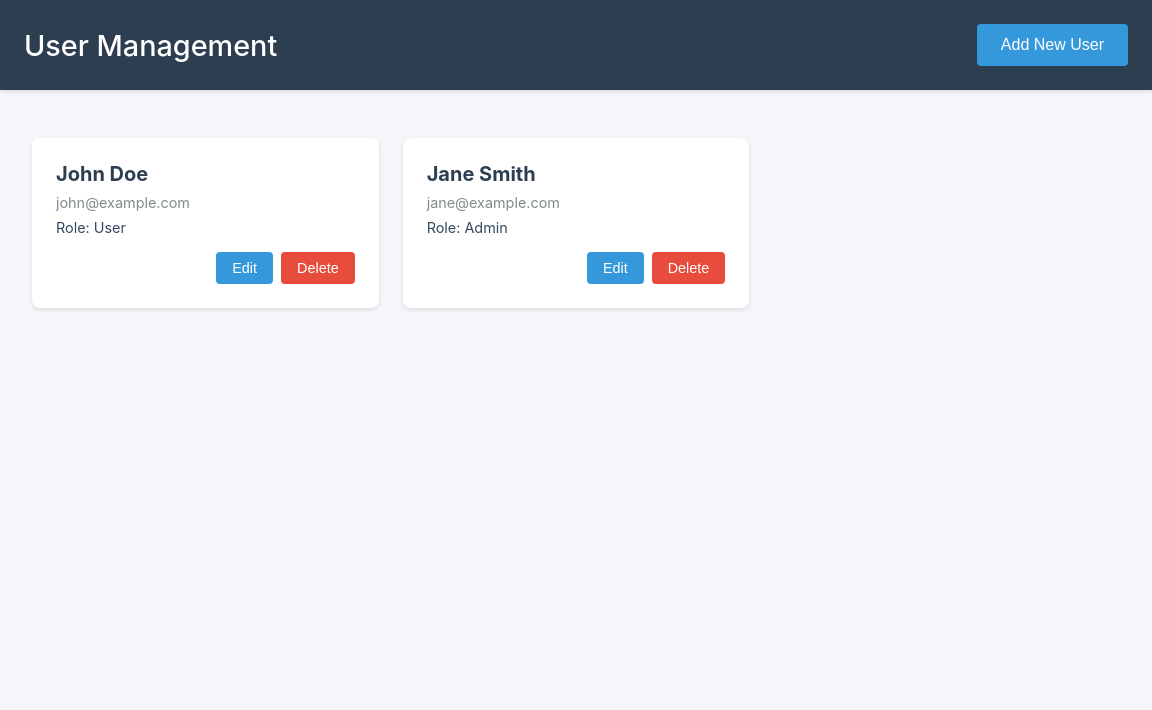
Test case: App › User Update › opens edit form with user data
Find and click edit button for first user
Click the button with test id "edit-button" below "john@example.com" at (245,268), box [216, 252, 273, 284]
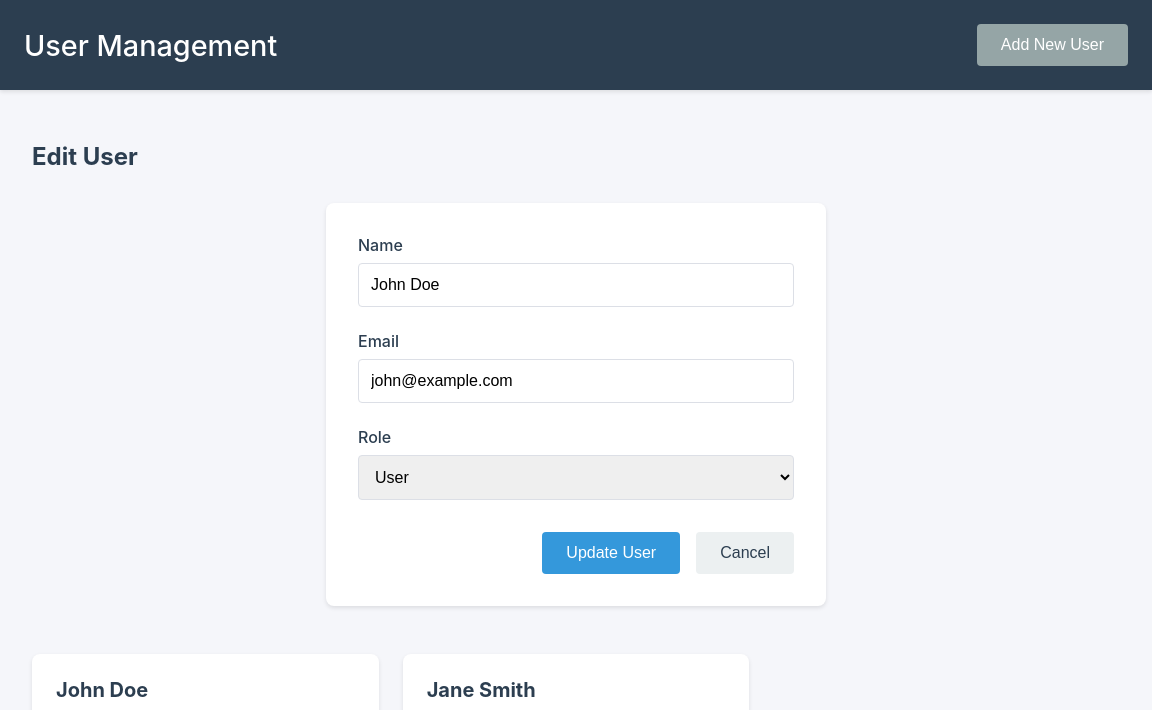
Check: the field with test id "name-input" holds "John Doe", box [358, 263, 794, 307]
Check: the field with test id "email-input" holds "john@example.com", box [358, 359, 794, 403]
Check: the dropdown with test id "role-select" shows "User", box [358, 455, 794, 500]
